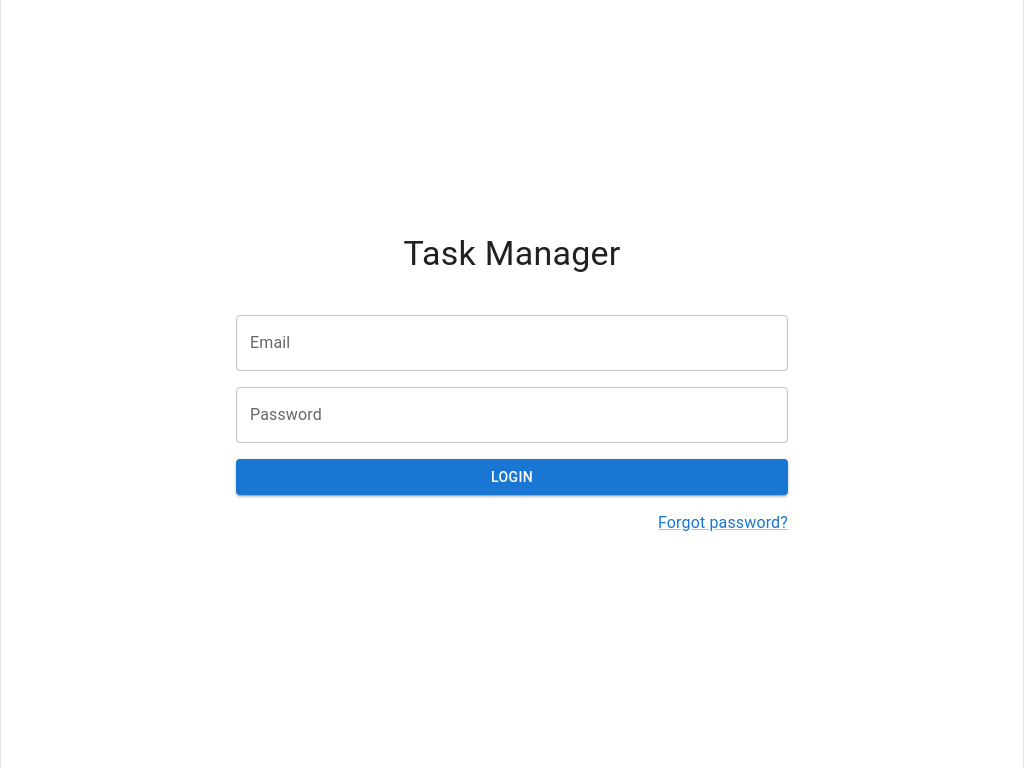
Login Component › displays error message on failed login
Type "john@test.com" into the field labelled "Email".
click(512, 343); type("john@test.com")  # box x1=236 y1=315 x2=788 y2=371
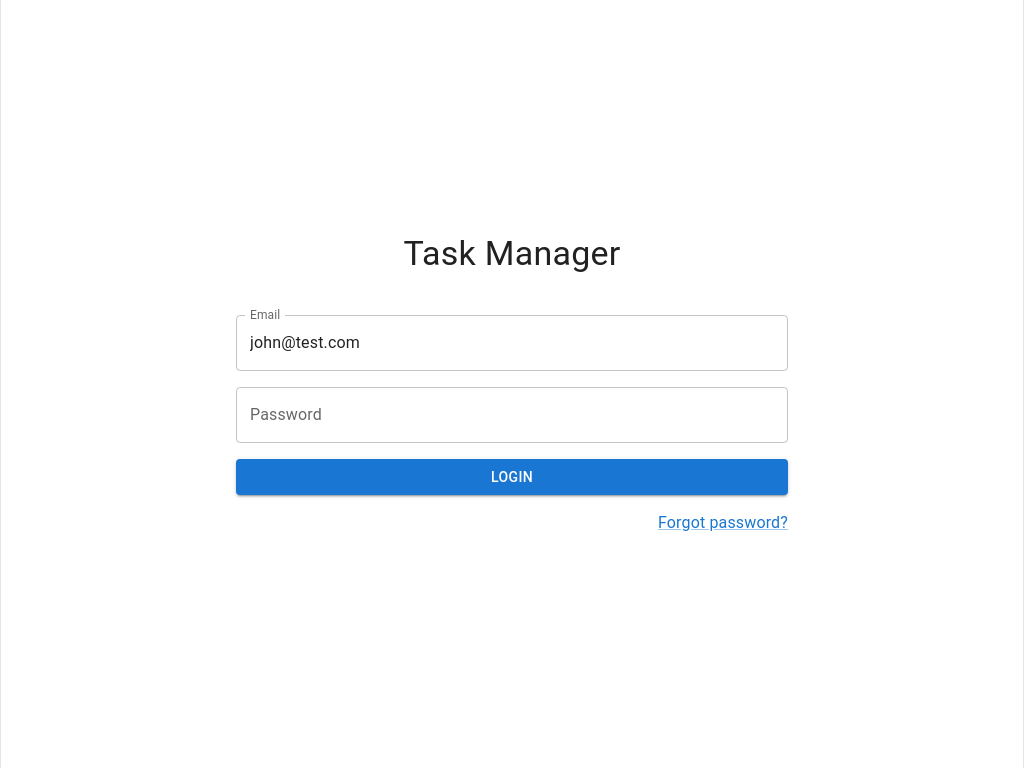
Type "wrong" into the password field labelled "Password".
click(512, 415); type("wrong")  # box x1=236 y1=387 x2=788 y2=443
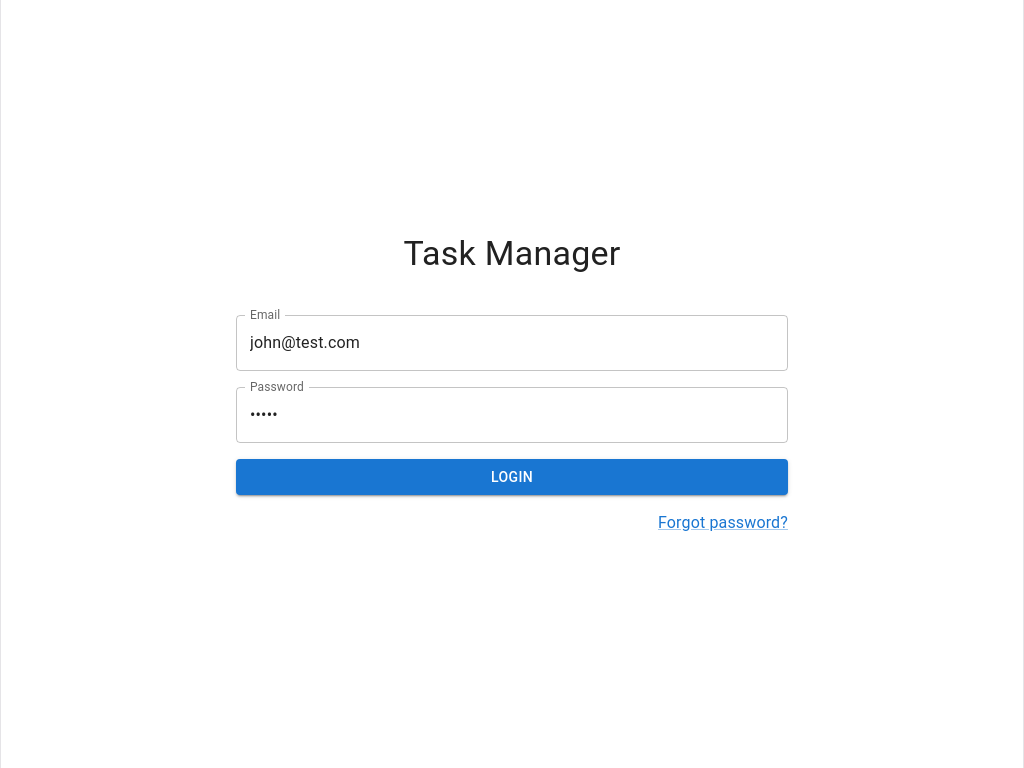
Click the button "Login".
click(512, 477)  # box x1=236 y1=459 x2=788 y2=495
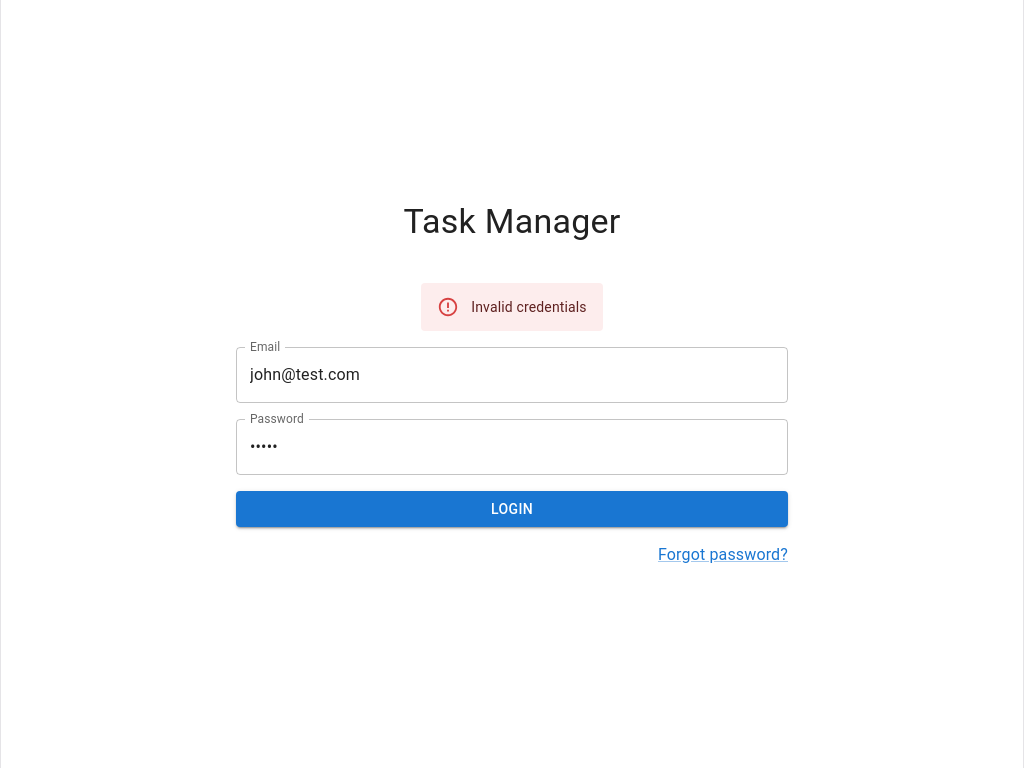
Check: the text "Invalid credentials" is shown, box x1=471 y1=299 x2=587 y2=315
